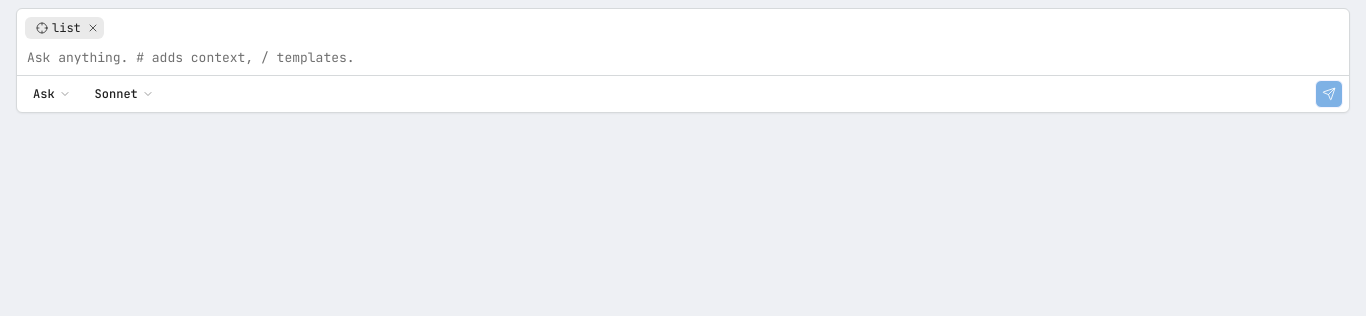
Test: Composer › switches the mode in the backend and the store
The width and height of the screenshot is (1366, 316).
Click the button with aria-label "Mode: Ask" at (52, 94), box top-left (23, 80), bottom-right (81, 108)
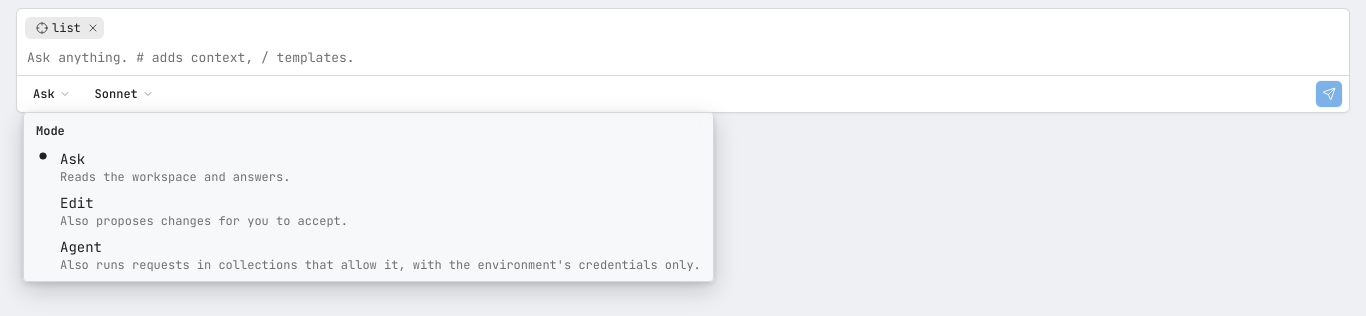
Click the menu item "Edit Also proposes changes for you to accept." at (204, 212), box top-left (60, 194), bottom-right (348, 229)
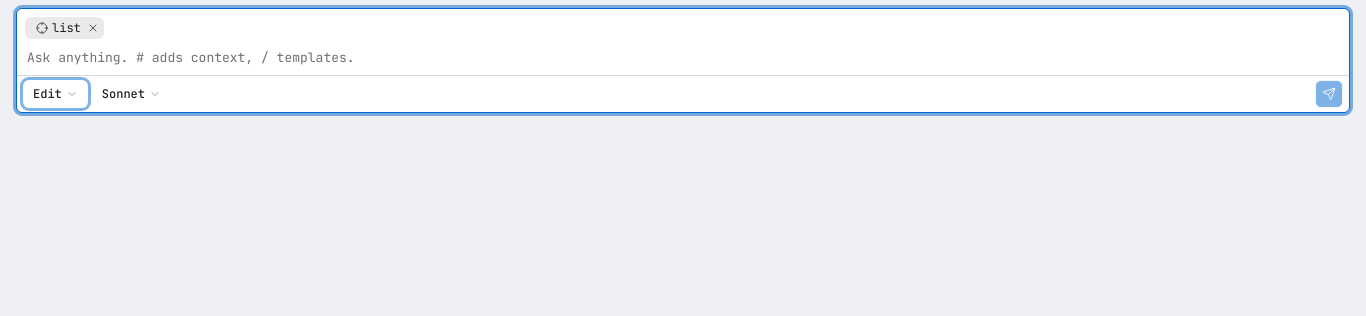
Expected: the button with aria-label "Mode: Edit" is shown, top-left (23, 80), bottom-right (88, 108)
